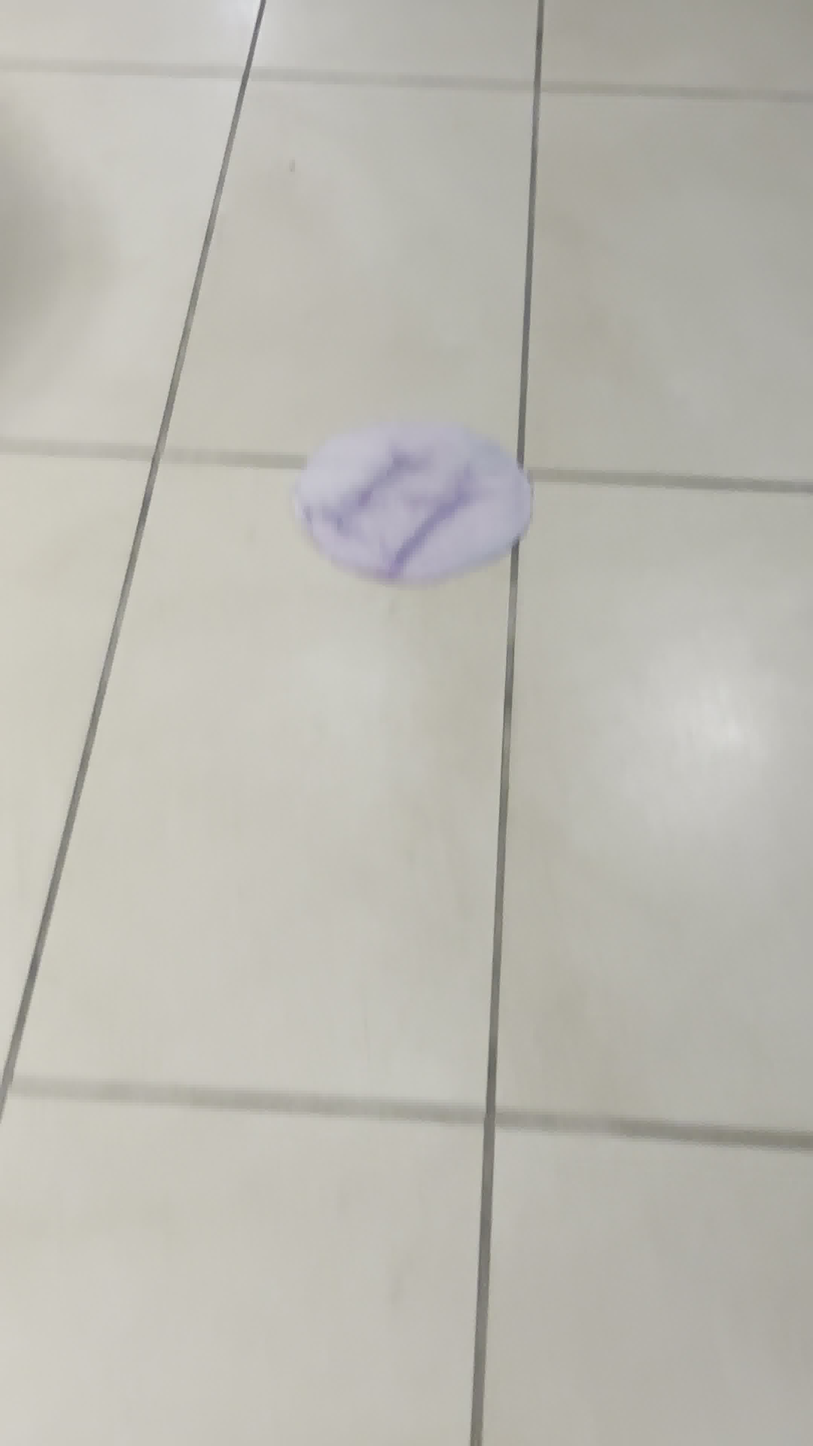Target: (290, 411, 529, 589)
